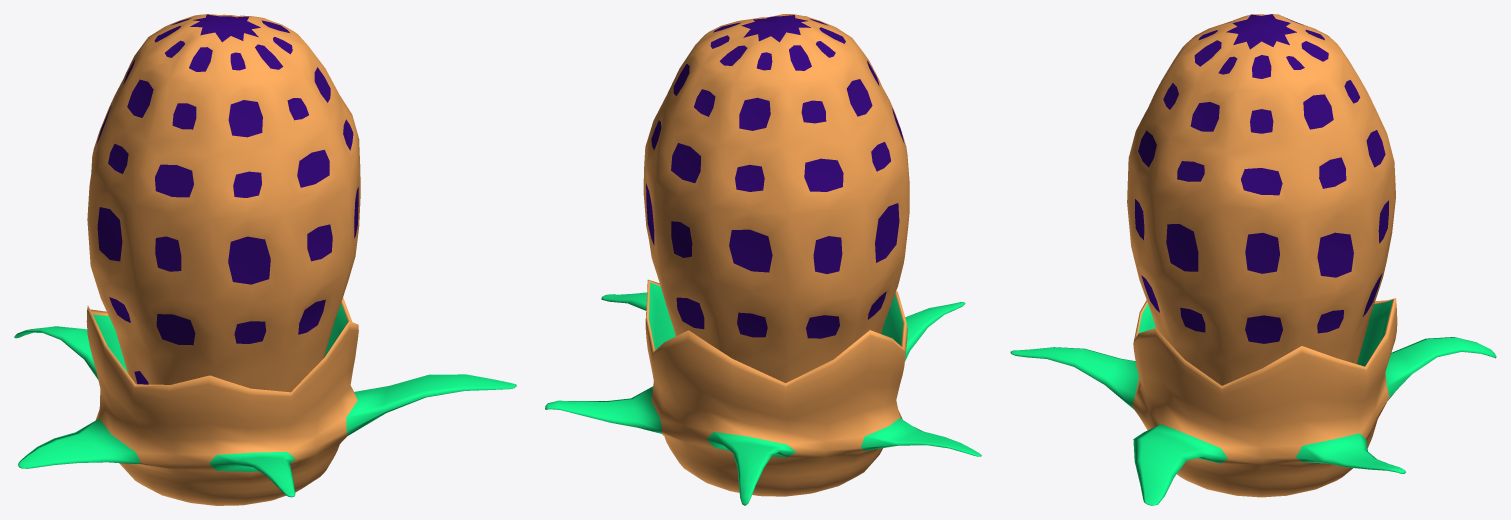
Rendered from pore2.fbx.
3 views of the same model, side by side, from view 1: azimuth 30°, elevation 25°; view 2: azimuth 150°, elevation 25°; view 3: azimuth 270°, elevation 25° (orthographic). The views are drawn at different scales.
Parts seen in each view (by area): view 1: spore2; view 2: spore2; view 3: spore2.
Boxes of the visible parts, x1=… form: spore2: x1=14, y1=14, x2=516, y2=505; spore2: x1=545, y1=14, x2=981, y2=505; spore2: x1=1010, y1=14, x2=1496, y2=505.
Size of the model in its own units: 101 by 101 by 98.98.
